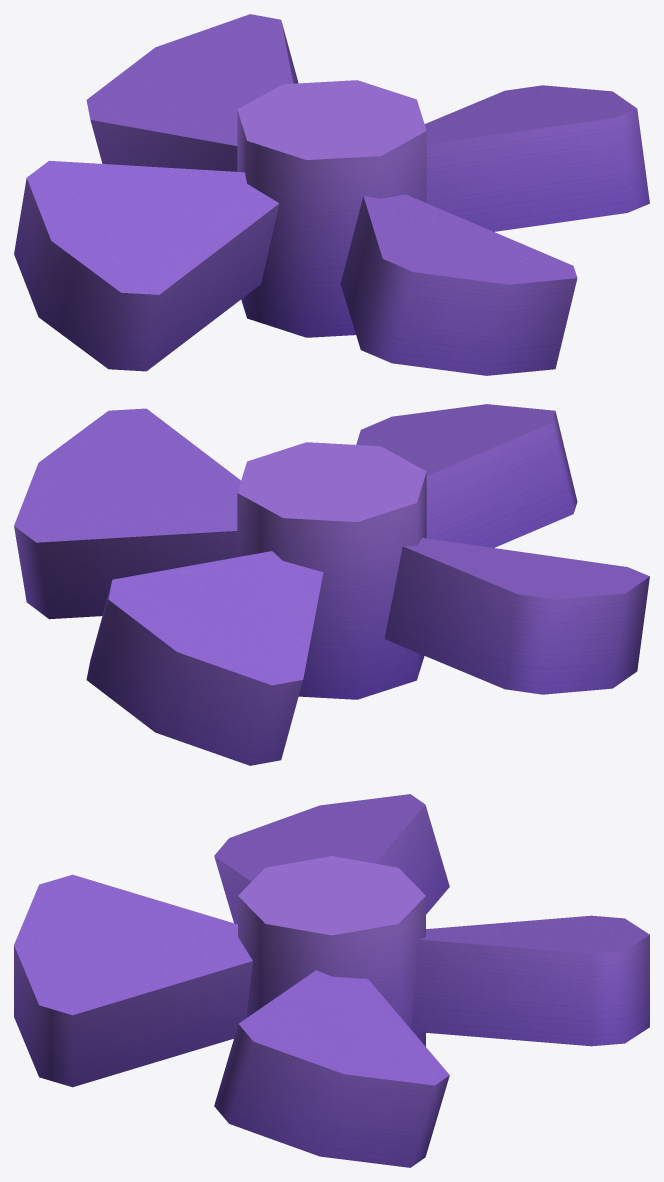
File: fan-col.glb
3 views of the same model, one above another, from view 1: azimuth 30°, elevation 25°; view 2: azimuth 150°, elevation 25°; view 3: azimuth 270°, elevation 25° (orthographic). The views are drawn at different scales.
Visible parts, largest first — view 1: fan-col; view 2: fan-col; view 3: fan-col.
Boxes of the visible parts, x1,y1,x2,y2 form: fan-col: (14,14,649,375); fan-col: (14,404,649,765); fan-col: (14,794,649,1167).
Size of the model in its own units: 0.6765 by 0.2 by 0.6765.
Materials: 1 (1 with a texture image).
